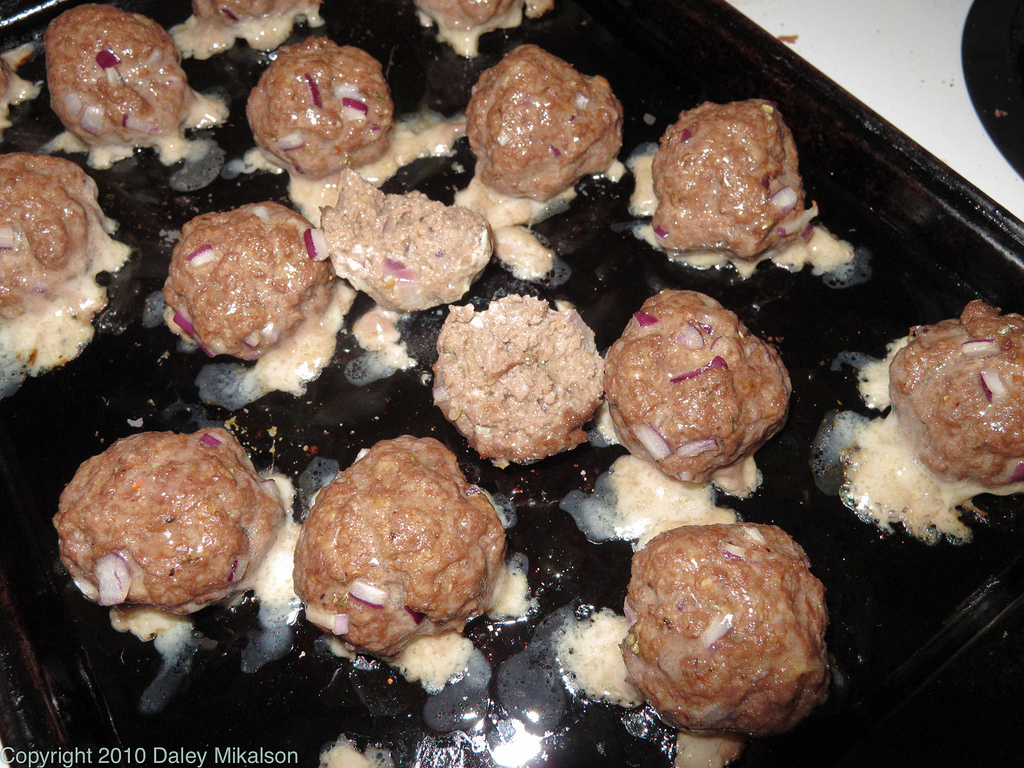meatballs: (603, 273, 819, 498), (623, 519, 838, 744), (288, 435, 509, 644), (46, 432, 300, 609), (430, 285, 616, 459), (656, 82, 823, 264), (455, 47, 632, 201), (174, 202, 325, 373), (874, 311, 1024, 480), (239, 27, 400, 172), (1, 150, 106, 337), (46, 16, 185, 141)
